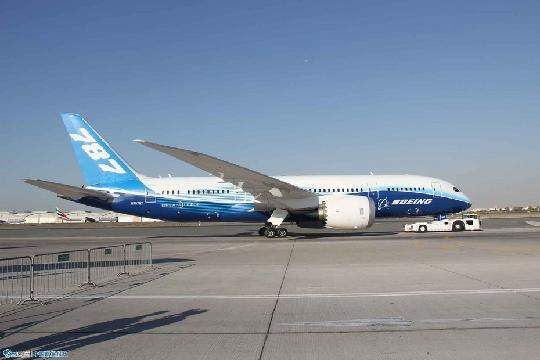airplane: (22, 111, 480, 256)
